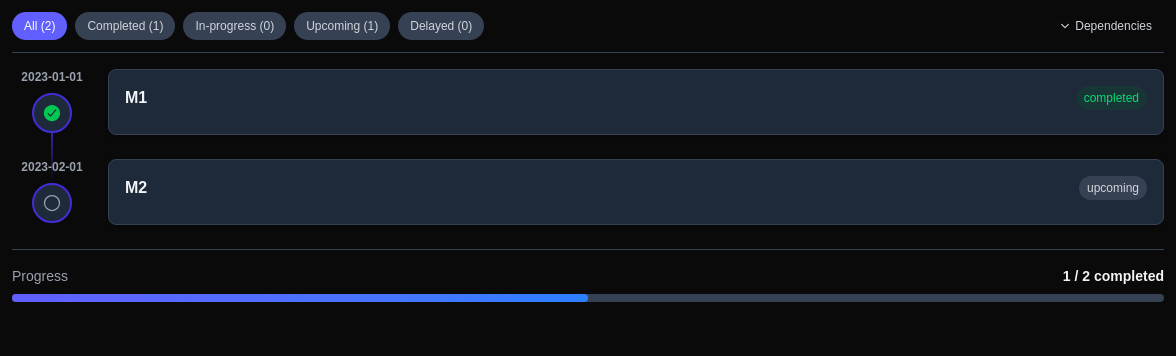
Test: Visualization Widgets › InteractiveTimeline › expands milestone details
The width and height of the screenshot is (1176, 356).
Click the heading "M1" at [136, 98], box [125,86,147,110]
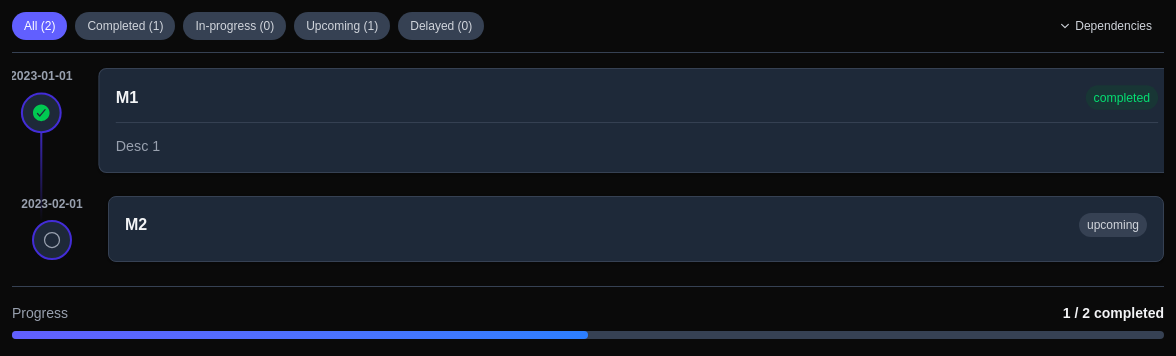
Now the text "Desc 1" is shown, box [116,137,160,154]
